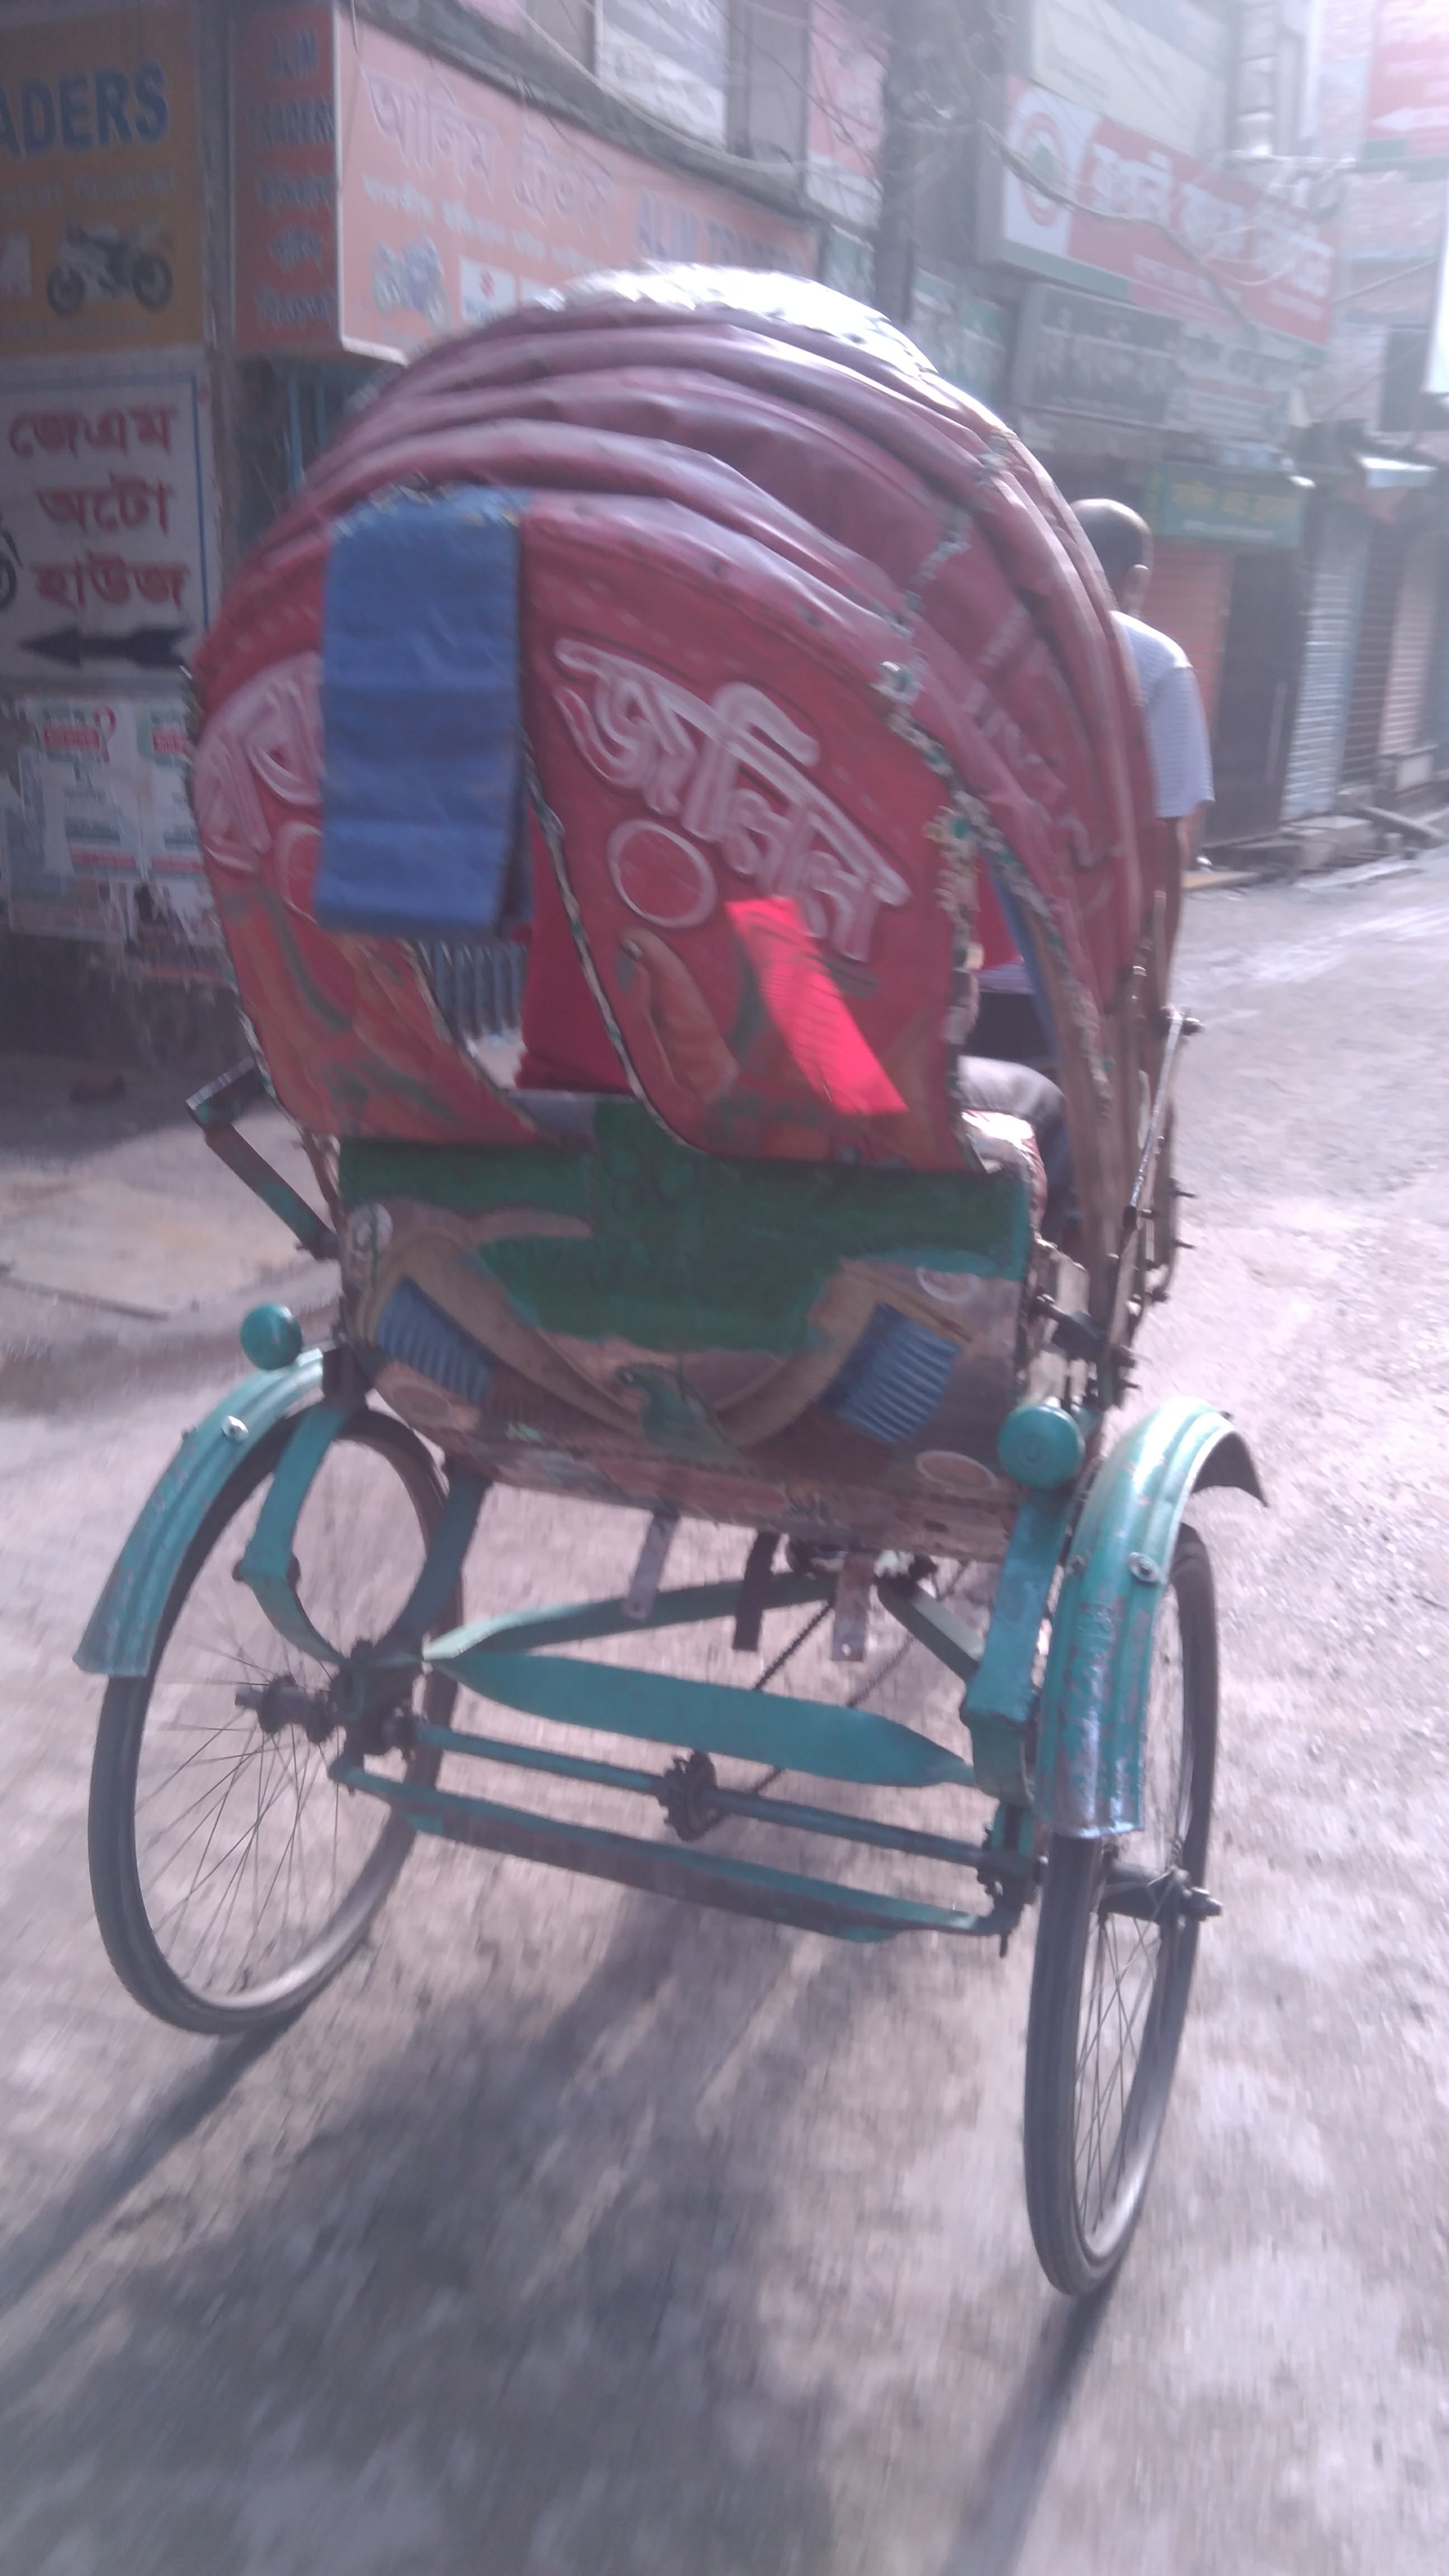Rickshaw: (133, 285, 1288, 2302)
